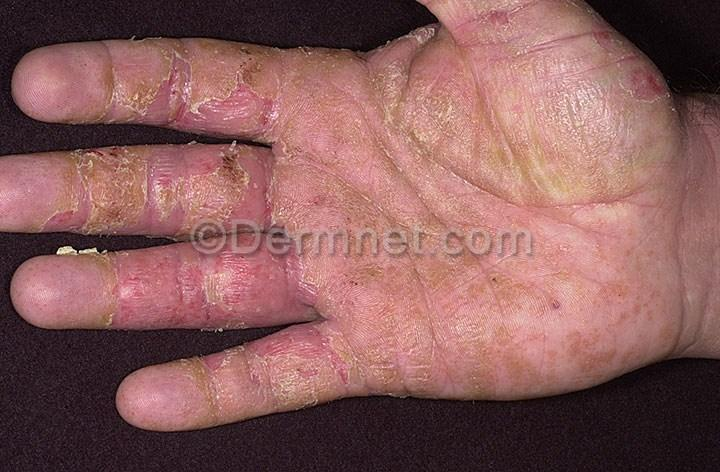Eczema: (118, 72, 224, 117), (525, 60, 607, 117), (121, 165, 194, 227), (19, 196, 141, 232), (327, 244, 399, 303), (471, 134, 532, 198), (568, 126, 633, 186), (459, 271, 532, 322), (222, 43, 325, 78), (251, 153, 295, 233), (495, 106, 562, 158), (47, 173, 136, 212), (209, 233, 262, 298), (222, 80, 284, 135), (198, 149, 249, 215), (284, 223, 335, 286), (609, 54, 670, 105), (178, 194, 257, 233), (331, 352, 407, 392), (386, 112, 439, 168), (541, 179, 610, 222), (66, 283, 131, 328), (413, 63, 464, 119), (586, 273, 645, 321), (281, 336, 334, 389), (261, 242, 306, 304), (123, 270, 182, 317), (446, 106, 504, 153), (78, 251, 146, 291), (395, 33, 455, 78), (419, 287, 473, 337), (626, 112, 662, 185), (403, 321, 445, 383), (310, 100, 361, 151), (320, 307, 374, 355), (247, 349, 294, 404), (657, 104, 688, 185), (305, 170, 353, 222), (60, 144, 143, 174), (409, 263, 465, 307), (532, 292, 588, 335), (353, 186, 409, 228), (620, 219, 664, 272), (421, 193, 466, 243), (161, 252, 211, 297), (64, 93, 143, 121), (164, 42, 231, 75), (364, 59, 411, 106), (569, 28, 621, 68), (307, 50, 376, 80), (179, 303, 251, 331), (551, 337, 615, 367), (76, 62, 139, 92), (500, 338, 542, 381), (209, 376, 246, 423), (139, 45, 185, 82), (151, 147, 204, 178), (193, 360, 241, 394), (483, 10, 520, 53), (368, 313, 406, 351), (460, 333, 489, 382), (638, 280, 664, 332), (244, 298, 296, 321), (539, 238, 573, 273), (168, 404, 212, 427), (463, 385, 517, 402), (544, 370, 584, 392), (617, 340, 638, 364)
